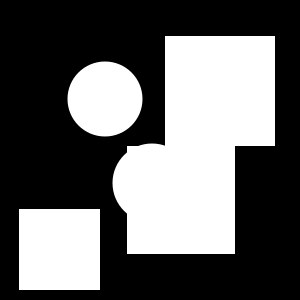circle: (165, 36, 275, 146), (127, 146, 235, 254), (19, 209, 100, 290)
rectangle: (113, 144, 192, 222), (68, 62, 142, 136)
